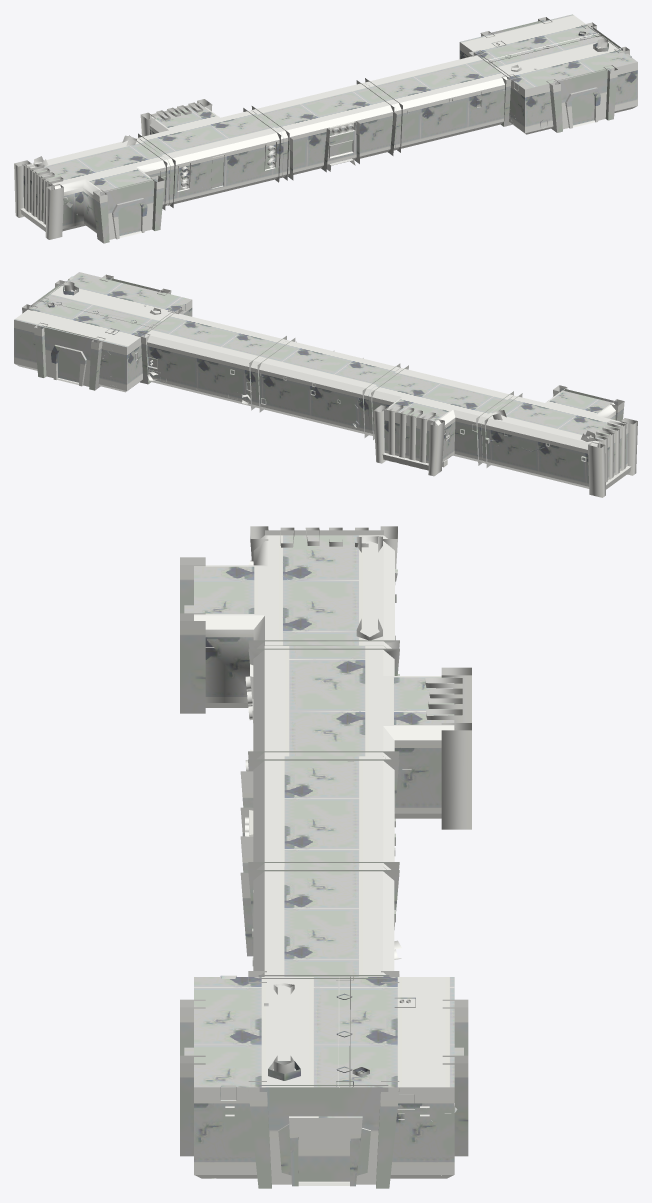
Rendered from Combined_Mesh_root_scene__7_93922163__zombies2_diffuse_11_814463c1_c1f257.obj.
3 views of the same model, one above another, from view 1: azimuth 30°, elevation 25°; view 2: azimuth 150°, elevation 25°; view 3: azimuth 270°, elevation 25° (orthographic). The views are drawn at different scales.
Size of the model in its own units: 102 by 9.84 by 22.39.
85 materials, 85 textured.
